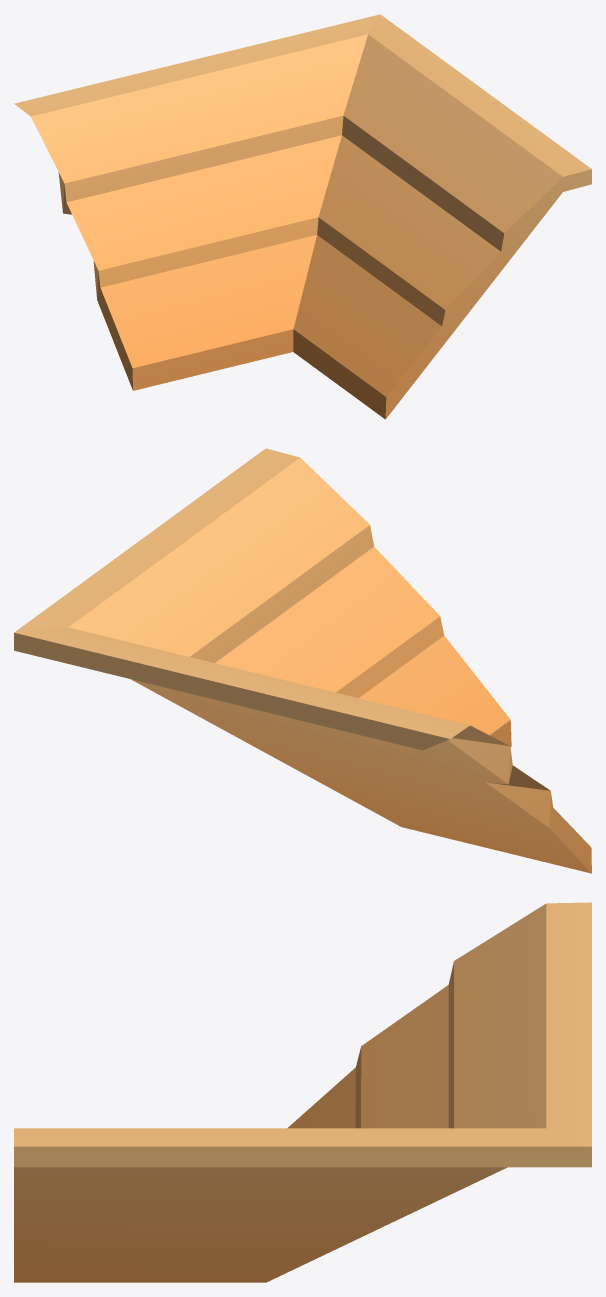
The model's file is Roof_Corner_Inner_01.fbx.
The picture shows the model from 3 angles, top to bottom: view 1: azimuth 30°, elevation 25°; view 2: azimuth 150°, elevation 25°; view 3: azimuth 270°, elevation 25°; orthographic projection. The views are drawn at different scales.
Parts seen in each view (by area): view 1: Roof_Corner_Inner_01; view 2: Roof_Corner_Inner_01; view 3: Roof_Corner_Inner_01.
Boxes of the visible parts, box(x1,y1,x2,y2) form: Roof_Corner_Inner_01: box(14, 14, 591, 419); Roof_Corner_Inner_01: box(14, 448, 591, 873); Roof_Corner_Inner_01: box(14, 902, 591, 1282).
Bounding box in the file's own units: 5 × 2.61 × 5.
